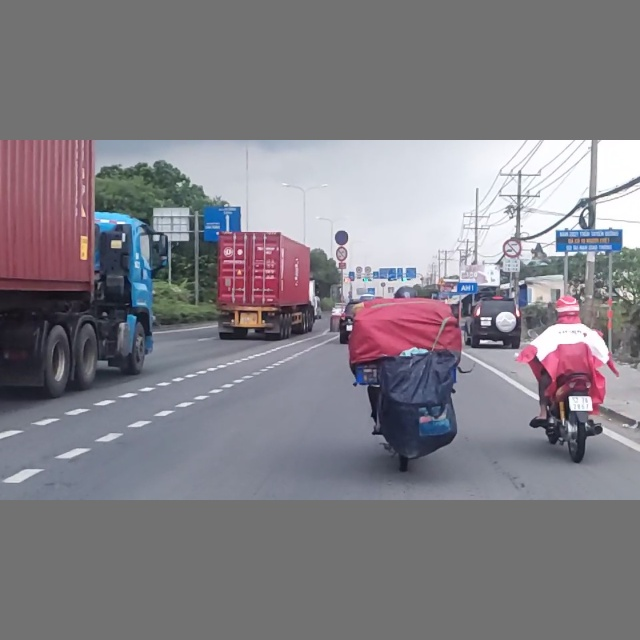P.107: (503, 239, 521, 258)
P.111: (337, 247, 347, 261)
P.130: (334, 229, 350, 245)
